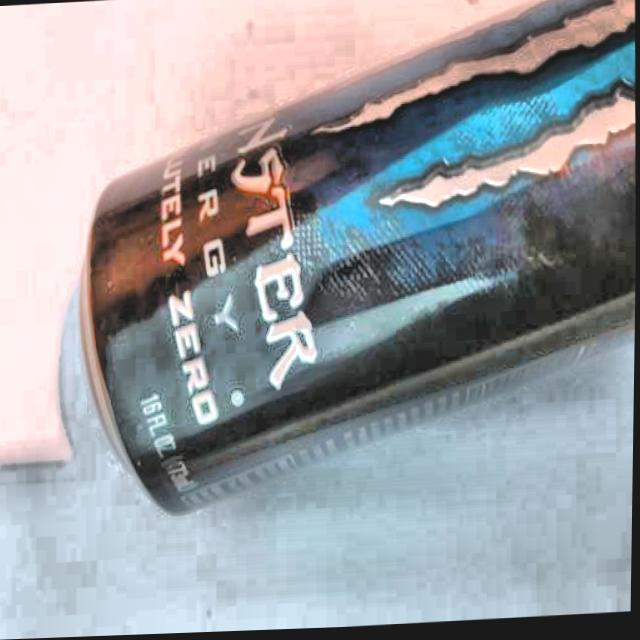Cans: (52, 0, 640, 543)
